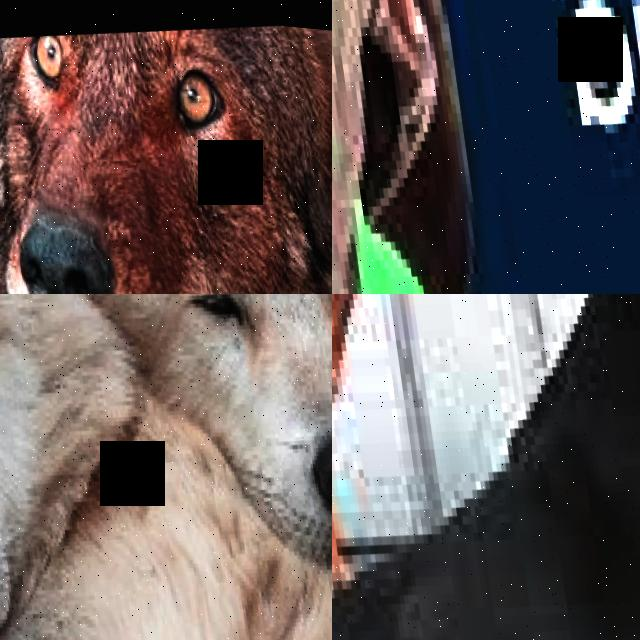dog: (332, 294, 640, 640), (332, 0, 590, 294), (332, 294, 524, 640)
wolf: (0, 294, 332, 640), (0, 0, 332, 294), (50, 294, 332, 588)
